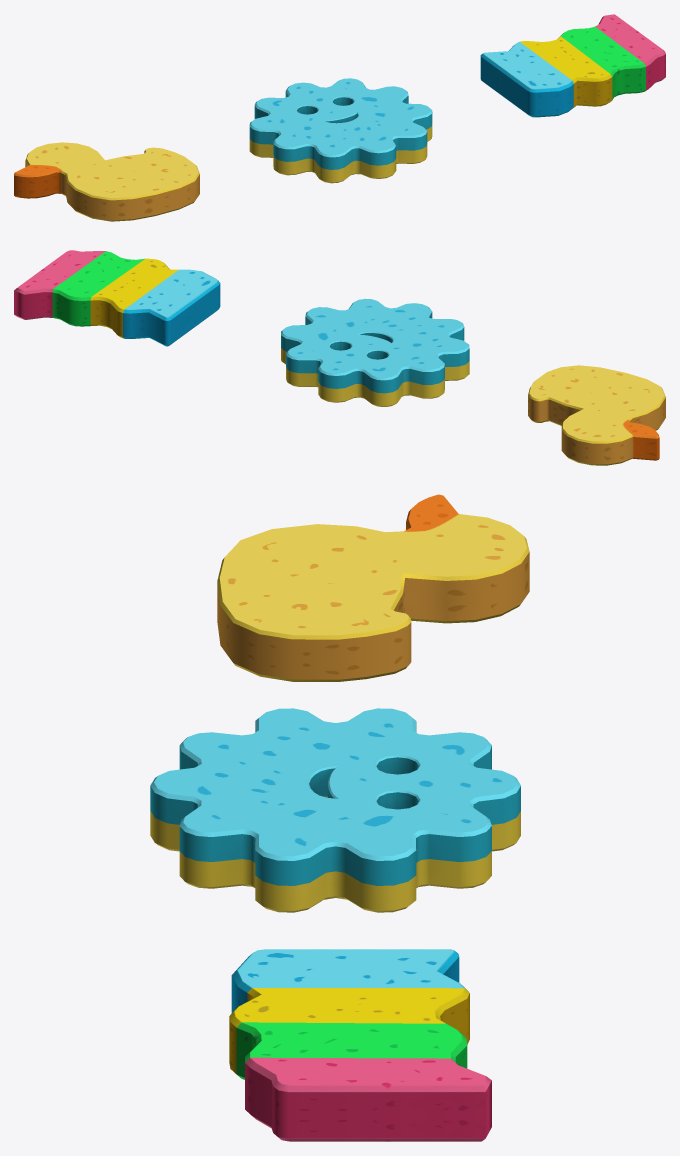
Rendered from KhanLau02.fbx.
3 renders of one model, top to bottom at view 1: azimuth 30°, elevation 25°; view 2: azimuth 150°, elevation 25°; view 3: azimuth 270°, elevation 25°, orthographic. The views are drawn at different scales.
Parts seen in each view (by area): view 1: KhanLau02; view 2: KhanLau02; view 3: KhanLau02.
Boxes of the visible parts, <box> form: KhanLau02: <box>14,14,665,221</box>; KhanLau02: <box>14,250,665,465</box>; KhanLau02: <box>150,494,529,1141</box>.
Bounding box in the file's own units: 11.69 × 0.5132 × 3.13.
